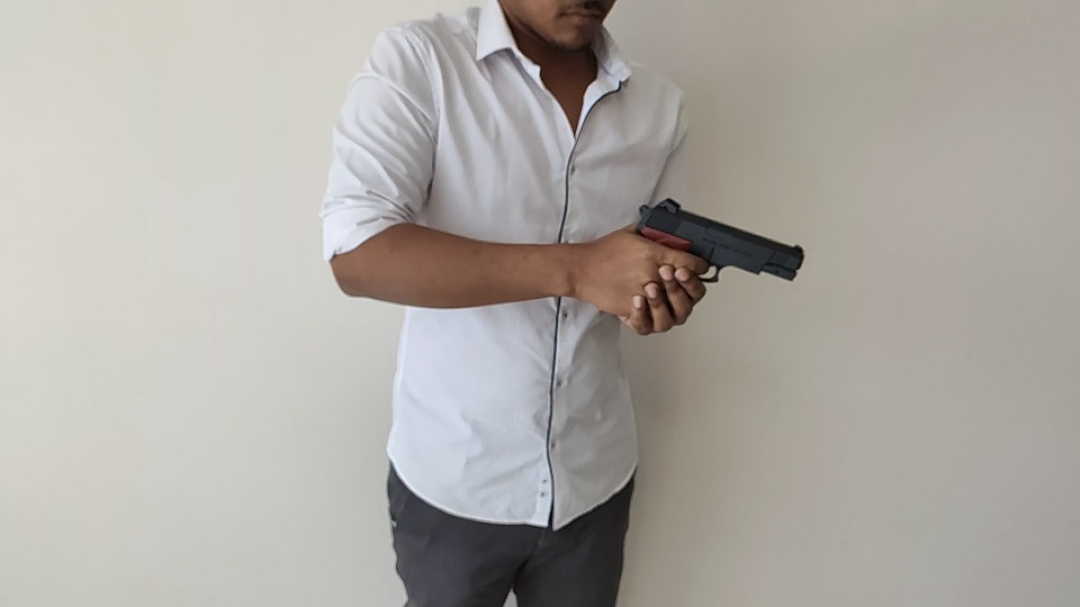gun: (636, 195, 806, 282)
